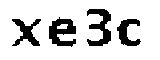3: (81, 4, 114, 49)
c: (116, 15, 145, 48)
e: (46, 17, 80, 51)
x: (10, 16, 42, 49)
